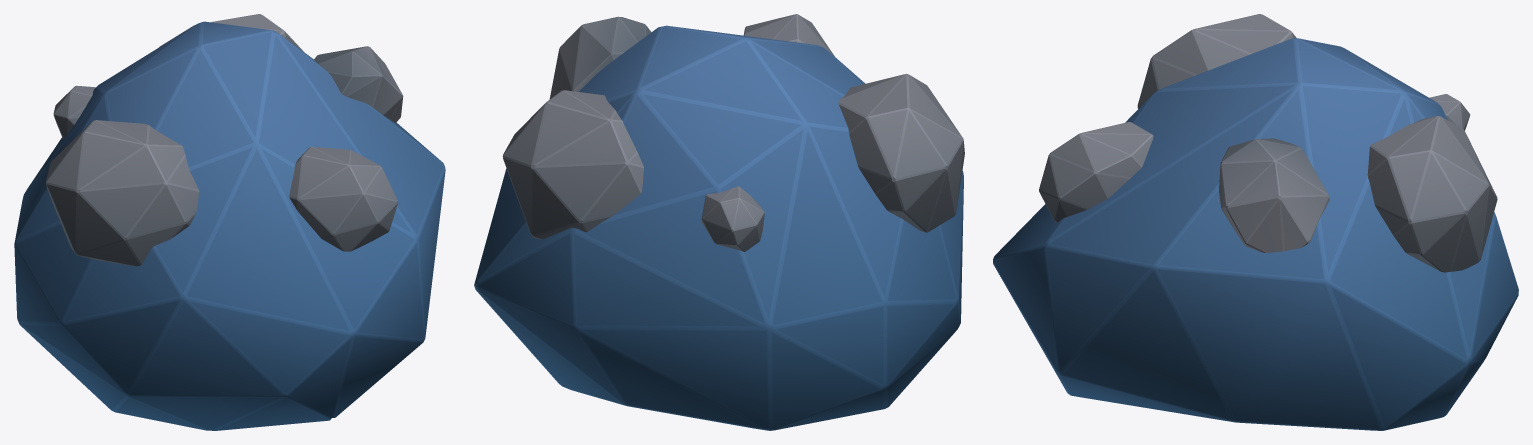
File: Ore_Iron_1.glb
3 views of the same model, side by side, from view 1: azimuth 30°, elevation 25°; view 2: azimuth 150°, elevation 25°; view 3: azimuth 270°, elevation 25° (orthographic). The views are drawn at different scales.
Parts seen in each view (by area): view 1: Ore_Iron_1; view 2: Ore_Iron_1; view 3: Ore_Iron_1.
Boxes of the visible parts, left/top/right/bottom form: Ore_Iron_1: left=14, top=14, right=445, bottom=430; Ore_Iron_1: left=474, top=14, right=964, bottom=430; Ore_Iron_1: left=993, top=14, right=1518, bottom=430.
Size of the model in its own units: 1.38 by 1.2 by 1.55.
